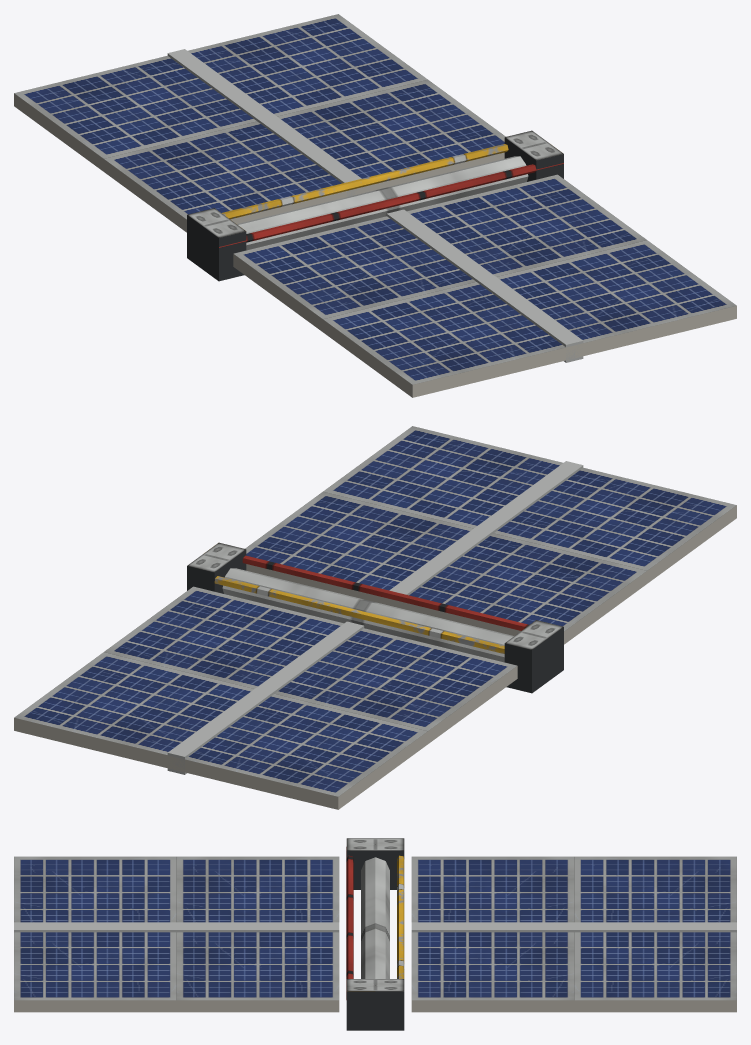
File: wing_solar.fbx
The picture shows the model from 3 angles, top to bottom: view 1: azimuth 30°, elevation 25°; view 2: azimuth 150°, elevation 25°; view 3: azimuth 270°, elevation 25°; orthographic projection. The views are drawn at different scales.
Parts seen in each view (by area): view 1: wing_solar; view 2: wing_solar; view 3: wing_solar.
Part boxes in pixels (bbox=[...]): wing_solar: bbox=[14, 14, 736, 397]; wing_solar: bbox=[14, 426, 736, 809]; wing_solar: bbox=[14, 838, 736, 1030].
Size of the model in its own units: 1 by 0.12 by 2.
1 material, 1 textured.
